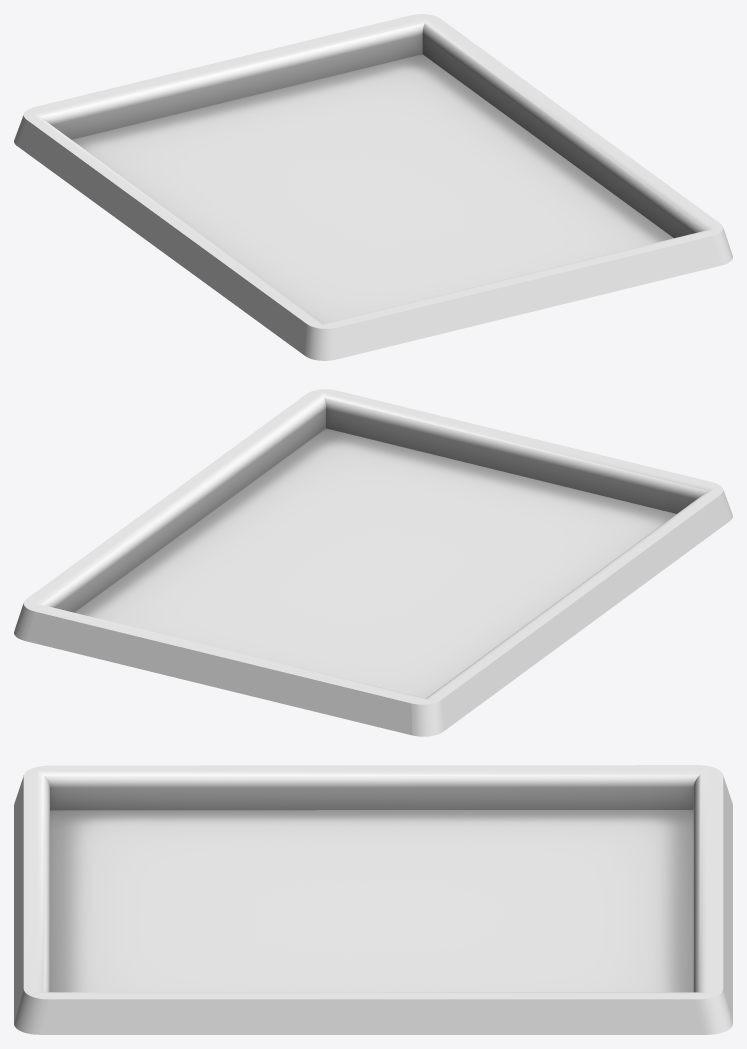
The model's file is Puzzle Frame.fbx.
The picture shows the model from 3 angles, top to bottom: view 1: azimuth 30°, elevation 25°; view 2: azimuth 150°, elevation 25°; view 3: azimuth 270°, elevation 25°; orthographic projection. The views are drawn at different scales.
Visible parts, largest first — view 1: Puzzle_Frame; view 2: Puzzle_Frame; view 3: Puzzle_Frame.
Boxes of the visible parts, <box> form: Puzzle_Frame: <box>14,14,732,360</box>; Puzzle_Frame: <box>14,389,732,736</box>; Puzzle_Frame: <box>14,765,732,1034</box>.
Size of the model in its own units: 21.4 by 1.41 by 27.
1 material, 1 textured.
